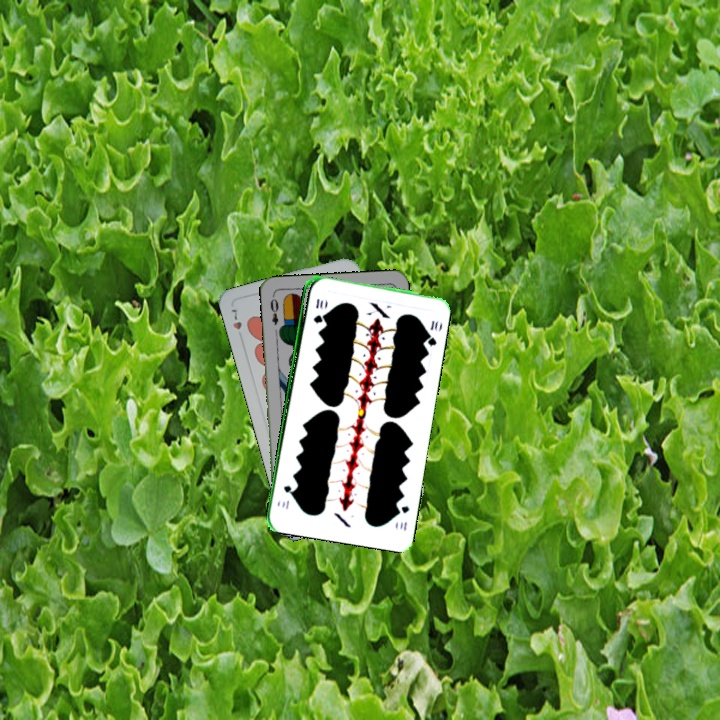EO: (266, 291, 281, 327)
G10: (392, 502, 412, 533), (309, 295, 323, 326)
H7: (227, 305, 244, 332)
